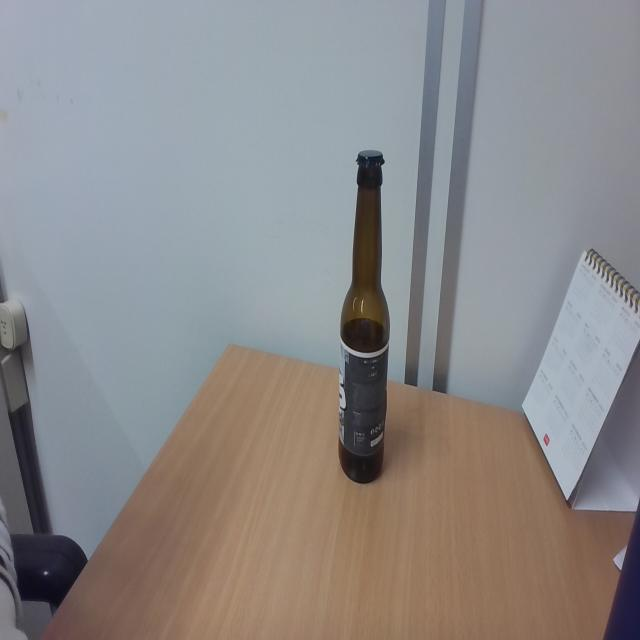Bottle: (338, 147, 390, 486)
Cap: (354, 146, 388, 172)
Label: (339, 342, 386, 454)
